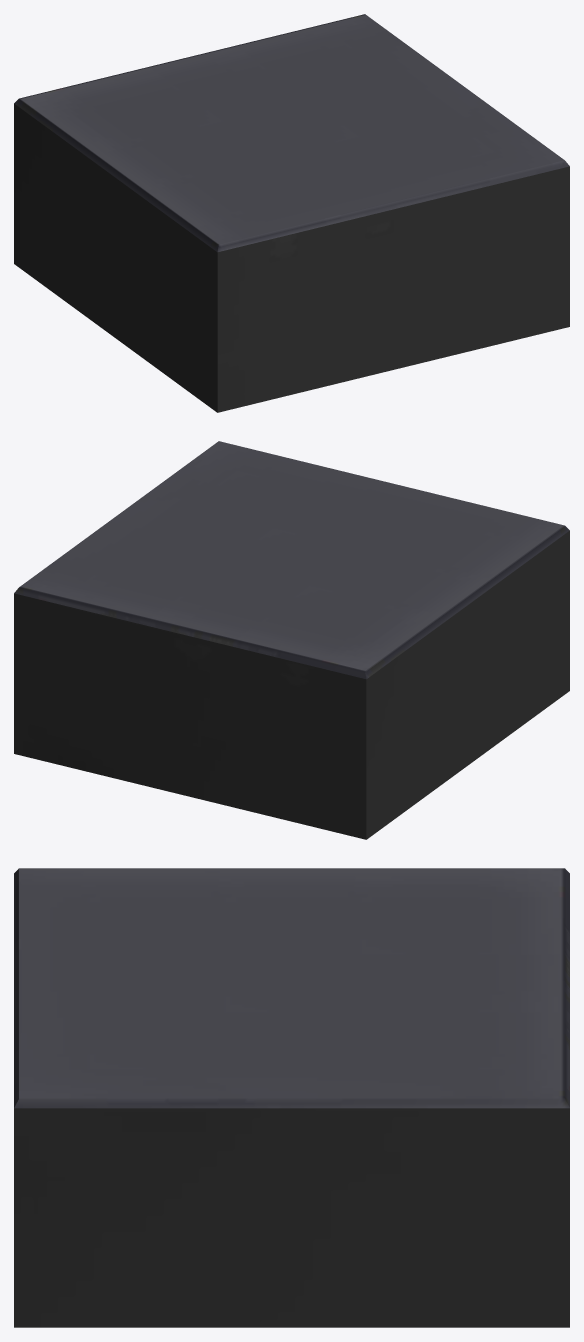
The model's file is highground_0.glb.
The picture shows the model from 3 angles, top to bottom: view 1: azimuth 30°, elevation 25°; view 2: azimuth 150°, elevation 25°; view 3: azimuth 270°, elevation 25°; orthographic projection. The views are drawn at different scales.
Visible parts, largest first — view 1: highground; view 2: highground; view 3: highground.
Part boxes in pixels (x1,y1,x2,y2): highground: (14,14,569,412); highground: (14,441,569,839); highground: (14,868,569,1327).
Bounding box in the file's own units: 100 × 45 × 100.
1 material, 1 textured.
